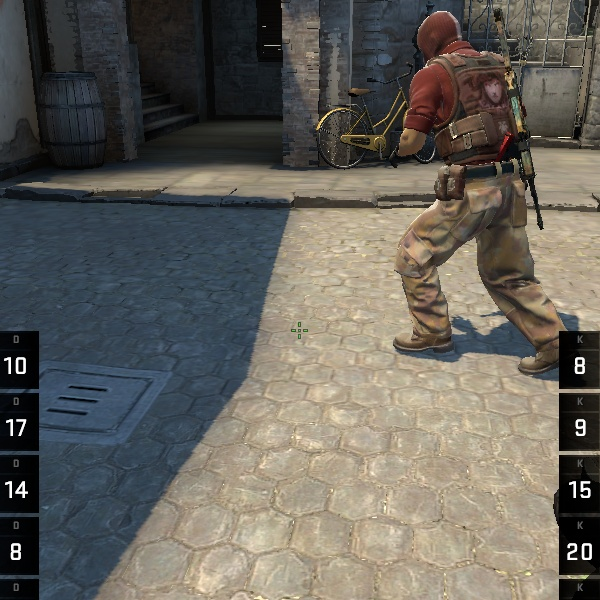t_body: (357, 0, 575, 362)
t_head: (402, 2, 484, 76)
